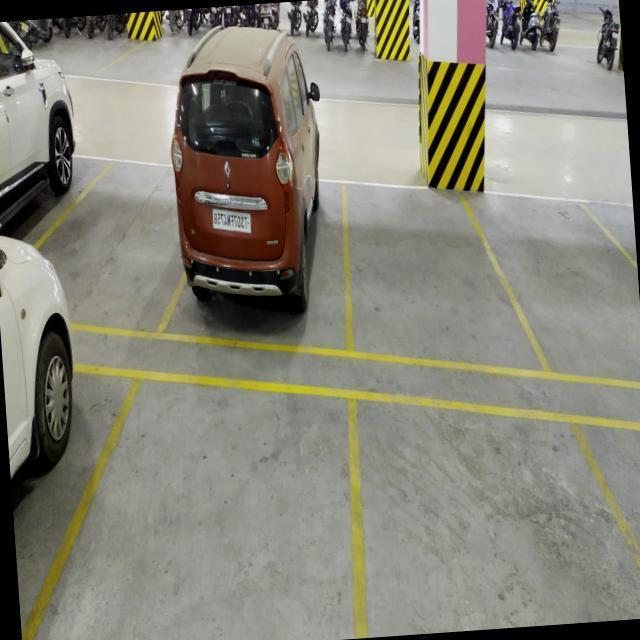space-empty: (91, 393, 370, 622), (346, 401, 575, 603), (340, 208, 490, 374), (57, 177, 187, 327), (531, 207, 609, 362)
space-occupied: (173, 176, 339, 364), (1, 332, 103, 539)
